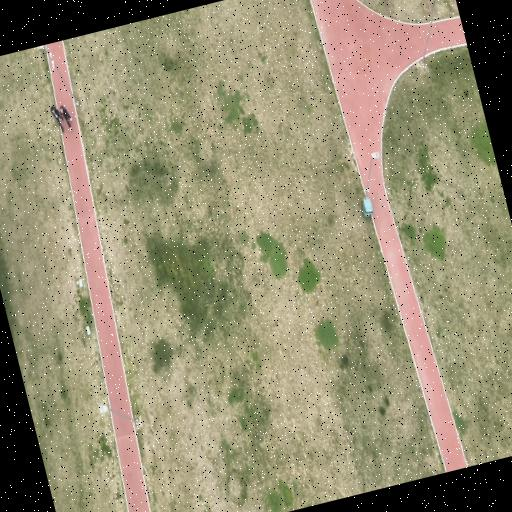person: (51, 106, 64, 131), (60, 106, 72, 131)
